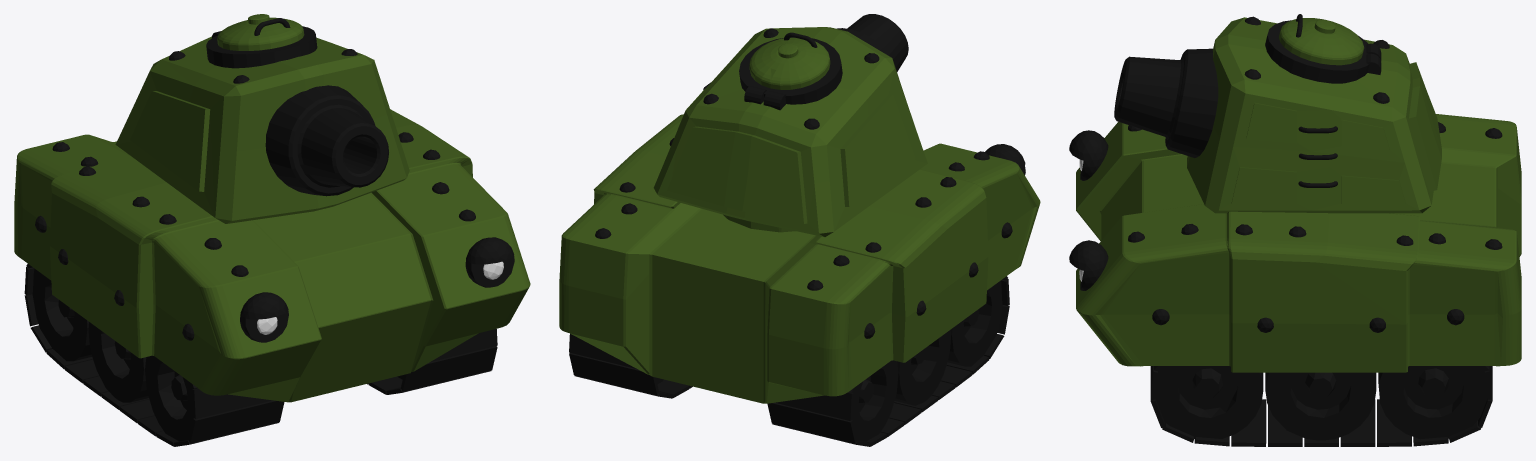
File: tank_1_green.fbx
3 renders of one model, left to right at view 1: azimuth 30°, elevation 25°; view 2: azimuth 150°, elevation 25°; view 3: azimuth 270°, elevation 25°, orthographic. The views are drawn at different scales.
Parts seen in each view (by area): view 1: Base.018, Turret.018, Canon.018, Tracks.017, Wheels.032, Entrance.018, Lights.010, Bolts.009; view 2: Base.018, Turret.018, Tracks.017, Wheels.032, Entrance.018, Bolts.009, Canon.018, Lights.010, Bolts.010; view 3: Base.018, Turret.018, Wheels.032, Canon.018, Entrance.018, Tracks.017, Lights.010, Bolts.009, Ladder.017, Bolts.010.
Part boxes in pixels (x1,y1,x2,y2): Base.018: [14, 109, 530, 402]; Turret.018: [115, 36, 409, 223]; Canon.018: [265, 85, 388, 196]; Tracks.017: [24, 264, 497, 446]; Wheels.032: [32, 269, 403, 441]; Entrance.018: [206, 14, 317, 68]; Lights.010: [240, 237, 514, 342]; Bolts.009: [35, 132, 475, 340]; Base.018: [559, 114, 1040, 403]; Turret.018: [653, 27, 927, 237]; Tracks.017: [569, 276, 1009, 446]; Wheels.032: [656, 280, 1002, 441]; Entrance.018: [739, 32, 842, 110]; Bolts.009: [595, 138, 1012, 338]; Canon.018: [837, 14, 908, 71]; Lights.010: [985, 144, 1025, 175]; Bolts.010: [703, 28, 879, 129]; Base.018: [1076, 114, 1521, 372]; Turret.018: [1187, 17, 1441, 213]; Wheels.032: [1155, 366, 1487, 440]; Canon.018: [1114, 48, 1218, 157]; Entrance.018: [1265, 14, 1381, 83]; Tracks.017: [1150, 366, 1492, 446]; Lights.010: [1069, 130, 1108, 290]; Bolts.009: [1128, 122, 1502, 332]; Ladder.017: [1298, 126, 1337, 187]; Bolts.010: [1244, 16, 1389, 103].
Size of the model in its own units: 155 by 151 by 175.
